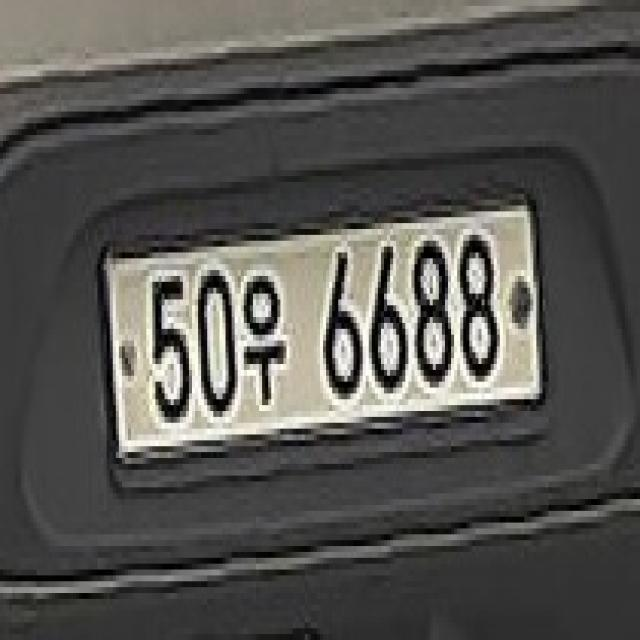0: (197, 254, 240, 426)
5: (148, 269, 197, 431)
6: (320, 241, 366, 414), (368, 232, 409, 402)
8: (459, 221, 508, 392), (413, 230, 453, 398)
license_plate: (97, 188, 555, 486)
u: (243, 252, 292, 416)
